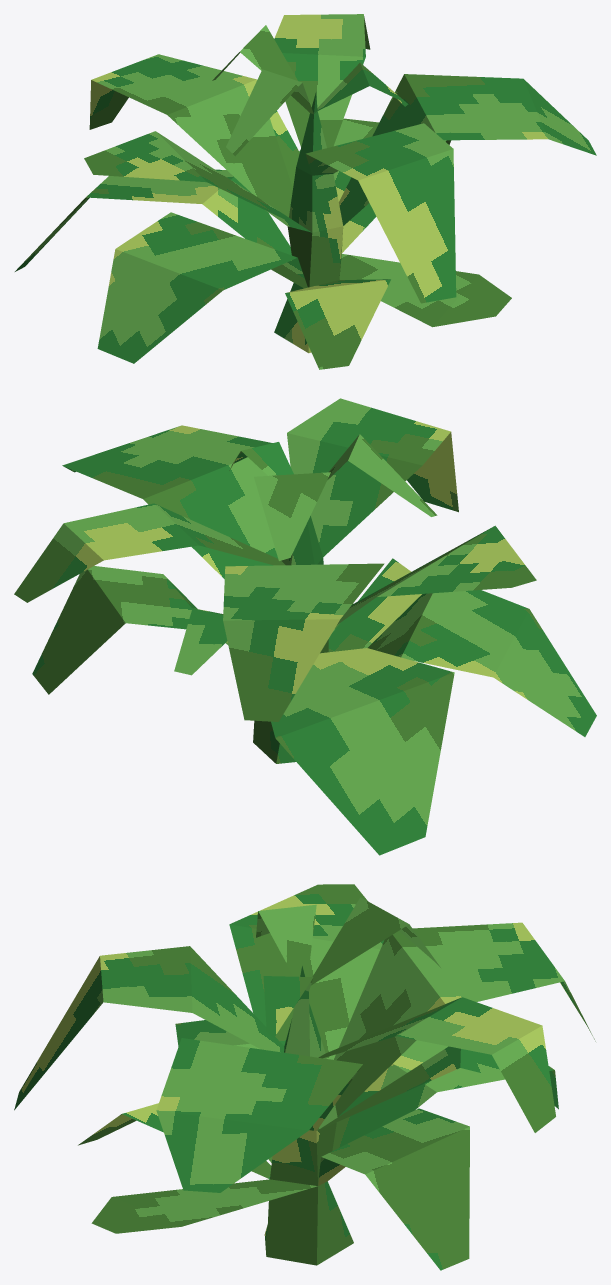
Rendered from tall_grass.fbx.
3 renders of one model, top to bottom at view 1: azimuth 30°, elevation 25°; view 2: azimuth 150°, elevation 25°; view 3: azimuth 270°, elevation 25°, orthographic. The views are drawn at different scales.
Visible parts, largest first — view 1: Cylinder; view 2: Cylinder; view 3: Cylinder.
Part boxes in pixels (bbox=[...]): Cylinder: bbox=[15, 14, 596, 369]; Cylinder: bbox=[14, 398, 596, 855]; Cylinder: bbox=[14, 884, 595, 1270].
Size of the model in its own units: 232 by 130 by 214.
Materials: 1 (1 with a texture image).
